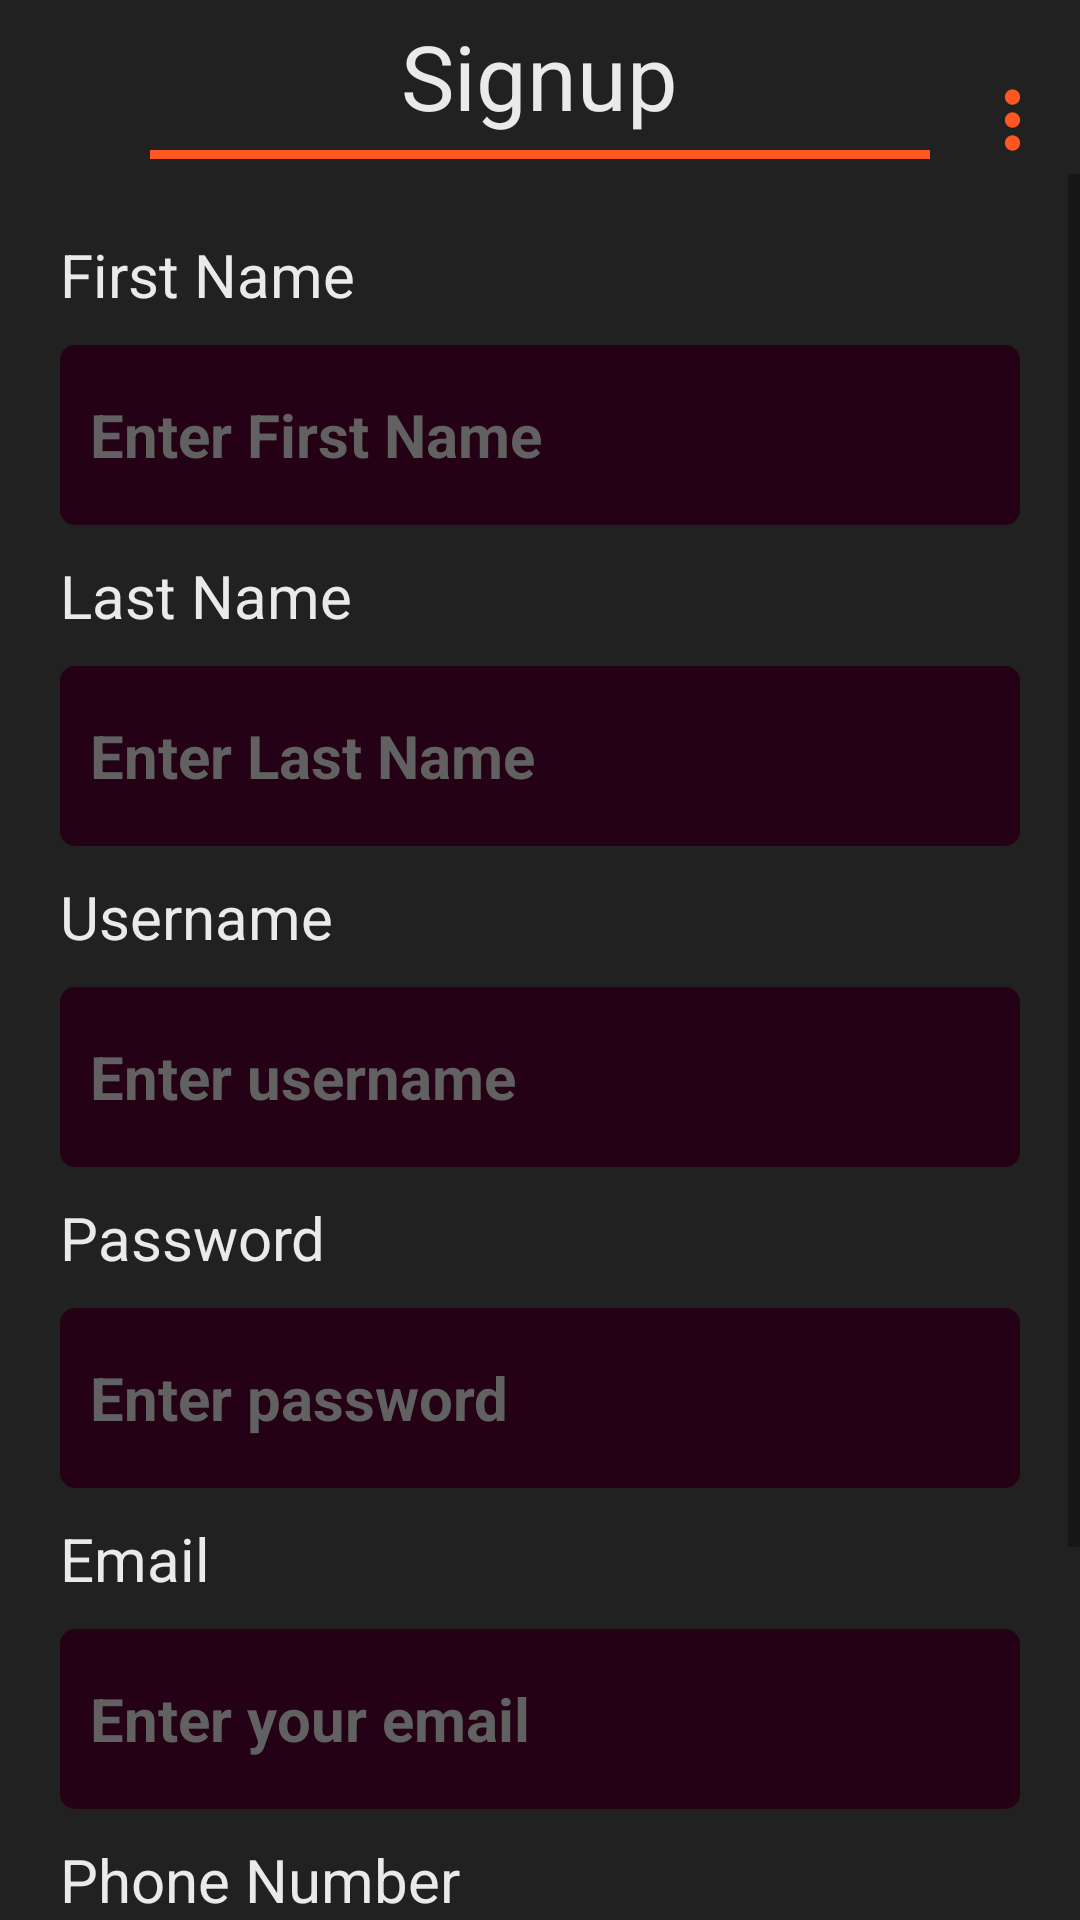

Where to tap for icons on this 1080 x 1920 app screen, as (x=x, y=y):
menu: (x=1012, y=120)
